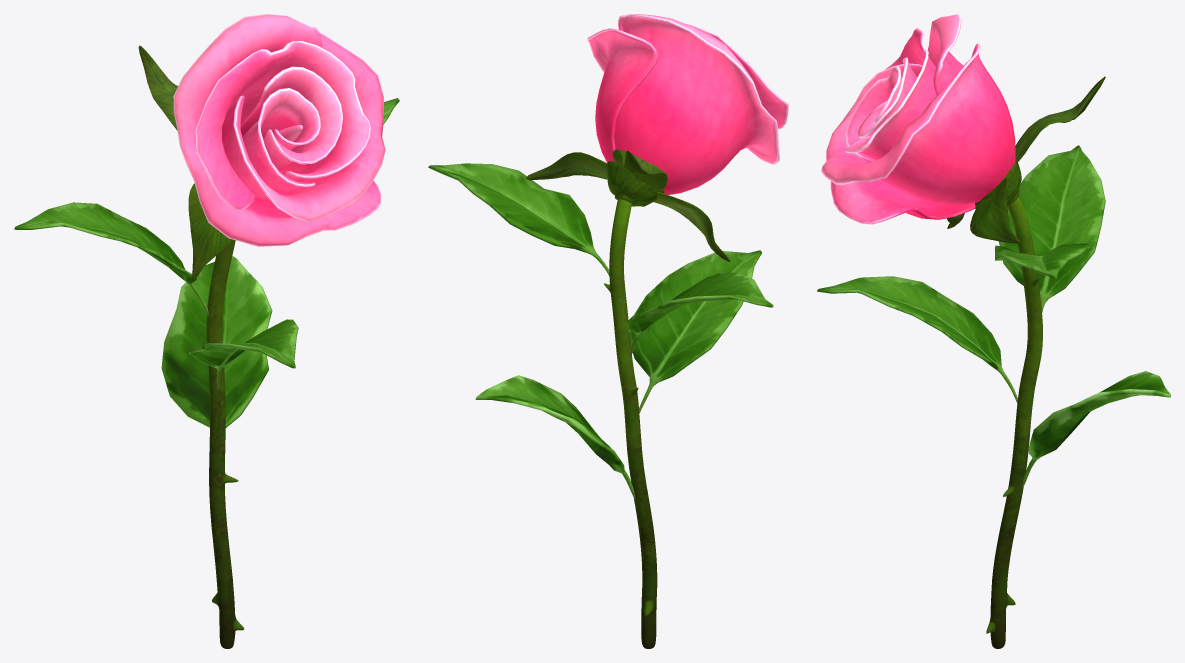
Rendered from rose.glb.
The picture shows the model from 3 angles, left to right: view 1: azimuth 30°, elevation 25°; view 2: azimuth 150°, elevation 25°; view 3: azimuth 270°, elevation 25°; orthographic projection. The views are drawn at different scales.
Parts seen in each view (by area): view 1: Rose; view 2: Rose; view 3: Rose.
Part boxes in pixels (box(x1,y1,x2,y2)): Rose: box(14, 14, 399, 648); Rose: box(428, 14, 788, 648); Rose: box(817, 14, 1170, 648).
Bounding box in the file's own units: 1.87 × 3.08 × 1.57.
1 material, 1 textured.
